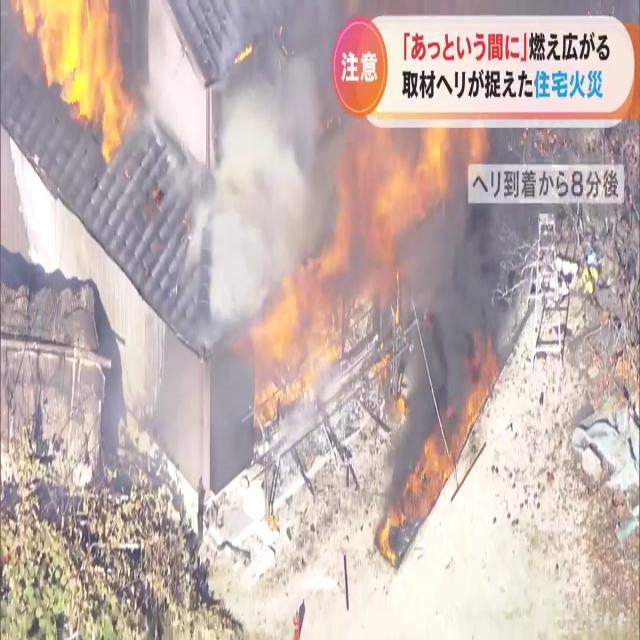Fire: (250, 134, 416, 424), (20, 0, 131, 156)
Smoke: (207, 8, 502, 468)
